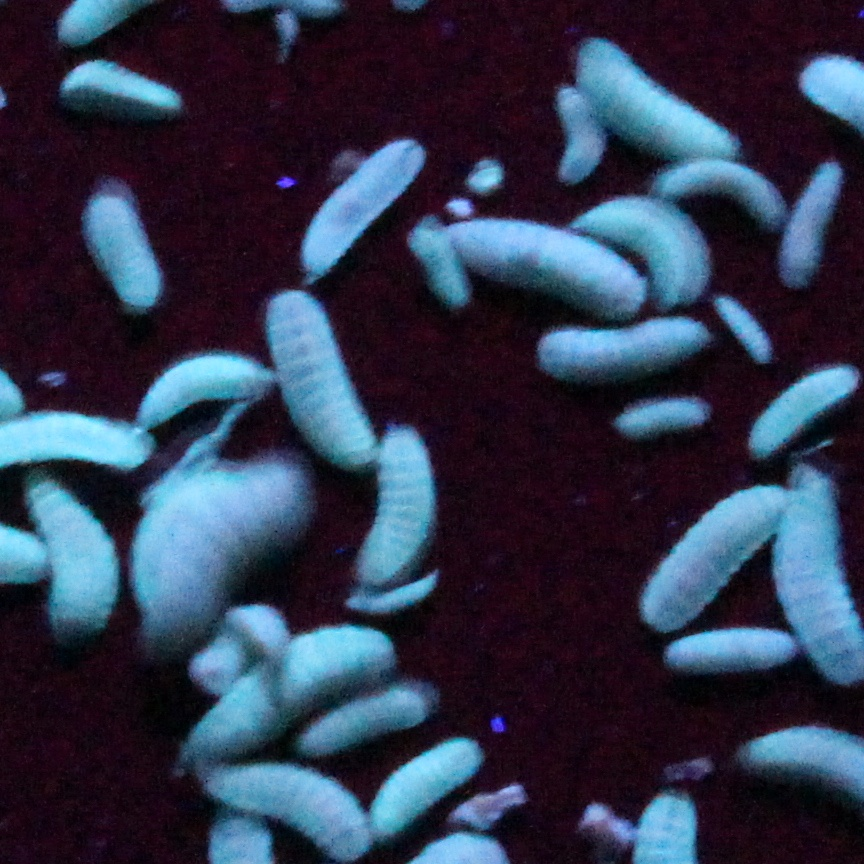larve: (171, 615, 394, 763), (141, 459, 294, 613), (647, 476, 798, 620), (188, 749, 376, 857), (291, 135, 431, 273), (588, 25, 737, 153), (463, 209, 637, 312), (258, 294, 365, 458), (585, 189, 719, 294), (72, 181, 169, 314), (34, 472, 110, 640), (136, 344, 278, 424), (367, 743, 492, 828), (371, 414, 434, 579), (537, 319, 719, 376), (657, 142, 778, 215), (297, 691, 433, 753), (653, 626, 797, 680), (70, 49, 176, 110), (415, 216, 474, 301), (706, 287, 769, 365), (554, 81, 597, 174), (619, 400, 708, 440)
